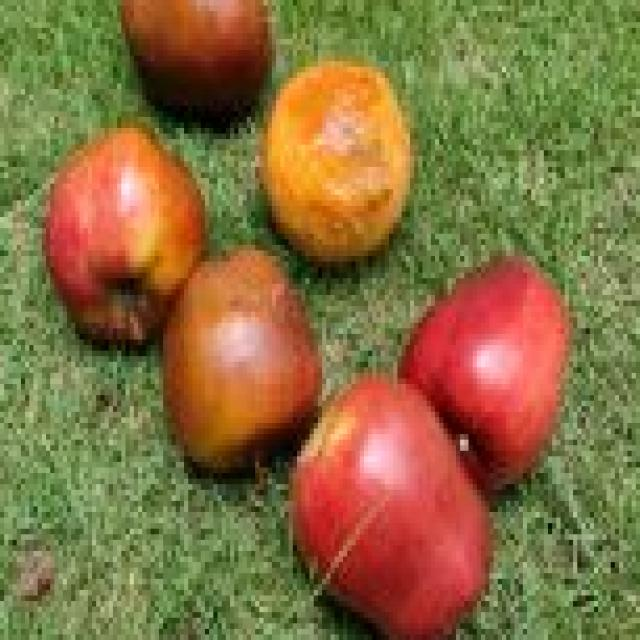Bad_Apple 0-1 day: (261, 64, 412, 263)
Good_Apple 10-21 days: (293, 259, 571, 640)
